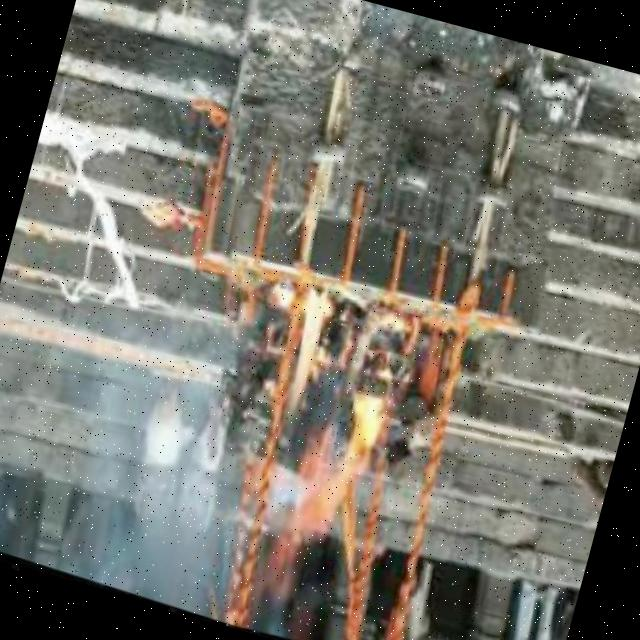fire: (216, 279, 432, 601)
